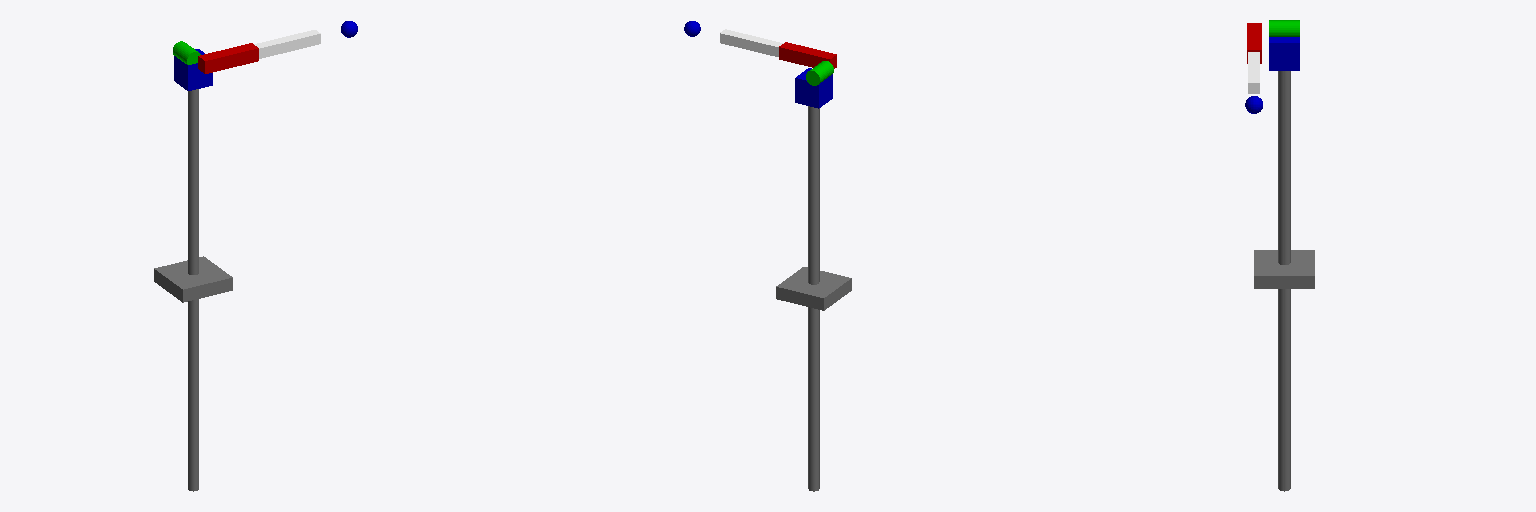
The robot description file, URDF, robot "custom_robot":
<?xml version="1.0"?>
<robot name="custom_robot">

  <!-- Materials -->
  <material name="blue">
    <color rgba="0 0 0.8 1"/>
  </material>
  <material name="green">
    <color rgba="0 0.8 0 1"/>
  </material>
  <material name="red">
    <color rgba="0.8 0 0 1"/>
  </material>
  <material name="white">
    <color rgba="1 1 1 1"/>
  </material>
  <material name="grey">
    <color rgba="0.5 0.5 0.5 1"/>
  </material>

  <!-- Base Link -->
  <link name="base_link">
    <visual>
      <geometry>
        <box size="0.2 0.2 0.05"/>
      </geometry>
      <material name="grey"/>
    </visual>
  </link>

  <!-- J5: Prismatic (Elevator) -->
  <!-- d0_eff = d0 + 0.80. We place the joint at 0.80 offset? 
       Actually, usually the joint origin is the zero position.
       If d0=0, we want the link to be at 0.80.
       So let's put the joint origin at 0 0 0.80 relative to base?
       Or put it at 0 and have the link offset?
       Let's put joint at 0,0,0 and use d0 as the variable.
       But the DH says d0_eff = d0 + 0.80.
       So the transform is Trans_z(d0 + 0.80).
       This is Trans_z(0.80) * Trans_z(d0).
       So we can have a fixed joint for the 0.80 offset, then the prismatic.
  -->
  
  <joint name="joint_base_offset" type="fixed">
    <parent link="base_link"/>
    <child link="elevator_base"/>
    <origin xyz="0 0 0.80" rpy="0 0 0"/>
  </joint>

  <link name="elevator_base">
     <visual>
      <geometry>
        <cylinder length="1.6" radius="0.02"/>
      </geometry>
      <origin xyz="0 0 -0.8" rpy="0 0 0"/> <!-- Visual representation of the rail -->
      <material name="grey"/>
    </visual>
  </link>

  <joint name="J5" type="prismatic">
    <parent link="elevator_base"/>
    <child link="link_elevator"/>
    <origin xyz="0 0 0" rpy="0 0 0"/>
    <axis xyz="0 0 1"/>
    <limit lower="-0.5" upper="0.5" effort="100" velocity="1.0"/> <!-- Adjust limits as needed -->
  </joint>

  <link name="link_elevator">
    <visual>
      <geometry>
        <box size="0.1 0.1 0.1"/>
      </geometry>
      <material name="blue"/>
    </visual>
  </link>

  <!-- J1: Revolute -->
  <!-- DH: d=0.065, a=0.025, alpha=-90. Theta = th1 + pi -->
  <!-- Origin relative to previous frame (elevator) is just 0 0 0 because we are at the end of the prismatic. -->
  <!-- But we have the +pi offset. -->
  
  <joint name="J1" type="revolute">
    <parent link="link_elevator"/>
    <child link="link_1_pre"/>
    <origin xyz="0 0 0" rpy="0 0 3.14159"/> <!-- Offset pi -->
    <axis xyz="0 0 1"/>
    <limit lower="-3.14" upper="3.14" effort="100" velocity="1.0"/>
  </joint>

  <link name="link_1_pre">
      <!-- Dummy link for the transform -->
  </link>

  <!-- Transform to next joint (Fixed) -->
  <!-- DH Row 1 Params: d=0.065, a=0.025, alpha=-90 -->
  <!-- This defines the position of the NEXT frame relative to J1 -->
  
  <joint name="joint_1_trans" type="fixed">
    <parent link="link_1_pre"/>
    <child link="link_1"/>
    <origin xyz="0.025 0 0.065" rpy="-1.5708 0 0"/>
  </joint>

  <link name="link_1">
    <visual>
      <geometry>
        <cylinder length="0.1" radius="0.03"/>
      </geometry>
      <material name="green"/>
    </visual>
  </link>

  <!-- Fixed Joint (Dummy Row 2) -->
  <!-- DH Row 2 Params: d=0.10, a=0.0, alpha=0. Theta=0 -->
  
  <joint name="joint_dummy" type="fixed">
    <parent link="link_1"/>
    <child link="link_dummy"/>
    <origin xyz="0 0 0.10" rpy="0 0 0"/>
  </joint>

  <link name="link_dummy">
      <!-- Just a connector -->
  </link>

  <!-- J2: Revolute -->
  <!-- DH Row 3 Params: d=0.0, a=0.215, alpha=0. Theta = th2 + pi -->
  
  <joint name="J2" type="revolute">
    <parent link="link_dummy"/>
    <child link="link_2_pre"/>
    <origin xyz="0 0 0" rpy="0 0 3.14159"/> <!-- Offset pi -->
    <axis xyz="0 0 1"/>
    <limit lower="-3.14" upper="3.14" effort="100" velocity="1.0"/>
  </joint>

  <link name="link_2_pre">
  </link>

  <!-- Transform to next joint -->
  <!-- DH Row 3 Params: d=0.0, a=0.215, alpha=0 -->
  
  <joint name="joint_2_trans" type="fixed">
    <parent link="link_2_pre"/>
    <child link="link_2"/>
    <origin xyz="0.215 0 0" rpy="0 0 0"/>
  </joint>

  <link name="link_2">
    <visual>
      <geometry>
        <box size="0.215 0.05 0.05"/>
      </geometry>
      <origin xyz="-0.1075 0 0" rpy="0 0 0"/> <!-- Center the visual -->
      <material name="red"/>
    </visual>
  </link>

  <!-- J3: Revolute -->
  <!-- DH Row 4 Params: d=0.0, a=0.250, alpha=180. Theta = th3 -->
  
  <joint name="J3" type="revolute">
    <parent link="link_2"/>
    <child link="link_3_pre"/>
    <origin xyz="0 0 0" rpy="0 0 0"/>
    <axis xyz="0 0 1"/>
    <limit lower="-3.14" upper="3.14" effort="100" velocity="1.0"/>
  </joint>

  <link name="link_3_pre">
  </link>

  <!-- Transform to next joint -->
  <!-- DH Row 4 Params: d=0.0, a=0.250, alpha=180 -->
  
  <joint name="joint_3_trans" type="fixed">
    <parent link="link_3_pre"/>
    <child link="link_3"/>
    <origin xyz="0.250 0 0" rpy="3.14159 0 0"/>
  </joint>

  <link name="link_3">
    <visual>
      <geometry>
        <box size="0.250 0.04 0.04"/>
      </geometry>
      <origin xyz="-0.125 0 0" rpy="0 0 0"/>
      <material name="white"/>
    </visual>
  </link>

  <!-- J4: Revolute -->
  <!-- DH Row 5 Params: d=0.0, a=0.125, alpha=0. Theta = -th4 -->
  <!-- Note: Axis is 0 0 -1 because of -th4 -->
  
  <joint name="J4" type="revolute">
    <parent link="link_3"/>
    <child link="link_4_pre"/>
    <origin xyz="0 0 0" rpy="0 0 0"/>
    <axis xyz="0 0 -1"/>
    <limit lower="-3.14" upper="3.14" effort="100" velocity="1.0"/>
  </joint>

  <link name="link_4_pre">
  </link>

  <!-- Transform to End Effector -->
  <!-- DH Row 5 Params: d=0.0, a=0.125, alpha=0 -->
  
  <joint name="joint_ee_trans" type="fixed">
    <parent link="link_4_pre"/>
    <child link="link_ee"/>
    <origin xyz="0.125 0 0" rpy="0 0 0"/>
  </joint>

  <link name="link_ee">
    <visual>
      <geometry>
        <sphere radius="0.03"/>
      </geometry>
      <material name="blue"/>
    </visual>
  </link>

</robot>

--- Render facts (derived) ---
3 views of the same robot in one strip: view 1: azimuth 30°, elevation 25°; view 2: azimuth 150°, elevation 25°; view 3: azimuth 270°, elevation 25° (orthographic).
Robot: custom_robot — 12 links, 11 joints (4 revolute, 1 prismatic, 6 fixed); root link base_link; default pose: every joint at zero.
Links seen in each view (by area): view 1: elevator_base, base_link, link_2, link_3, link_elevator; view 2: elevator_base, base_link, link_elevator, link_2, link_3; view 3: elevator_base, base_link, link_elevator, link_1.
Link boxes in pixels (x1,y1,x2,y2): elevator_base: (188, 89, 198, 491); base_link: (154, 256, 232, 302); link_2: (198, 43, 258, 73); link_3: (254, 30, 320, 58); link_elevator: (174, 49, 212, 90); elevator_base: (808, 106, 819, 491); base_link: (776, 267, 851, 310); link_elevator: (795, 68, 832, 108); link_2: (779, 42, 836, 68); link_3: (720, 29, 783, 56); elevator_base: (1278, 71, 1290, 491); base_link: (1254, 250, 1314, 288); link_elevator: (1269, 37, 1299, 70); link_1: (1269, 20, 1299, 36).
Bounding box of the posed robot: 0.695 × 0.23 × 1.7 m (x, y, z).
Geometry: primitives only (box / cylinder / sphere), no mesh files.
